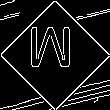M_S: (32, 30, 78, 80)
